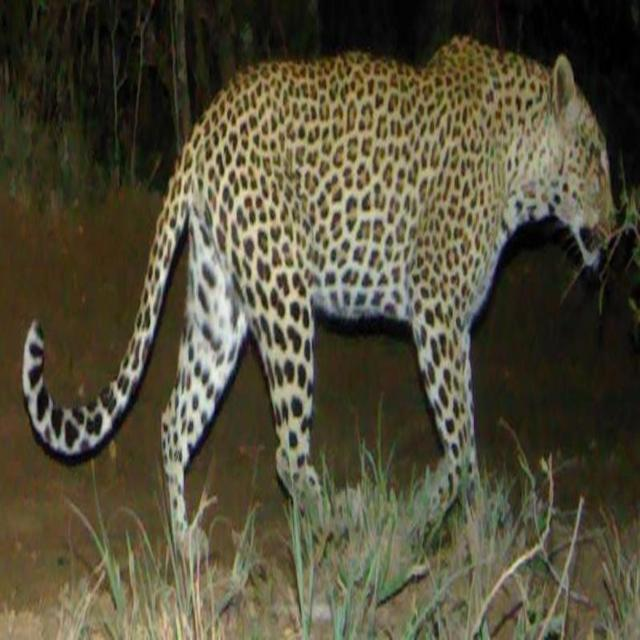Leopard: (24, 42, 612, 581)
